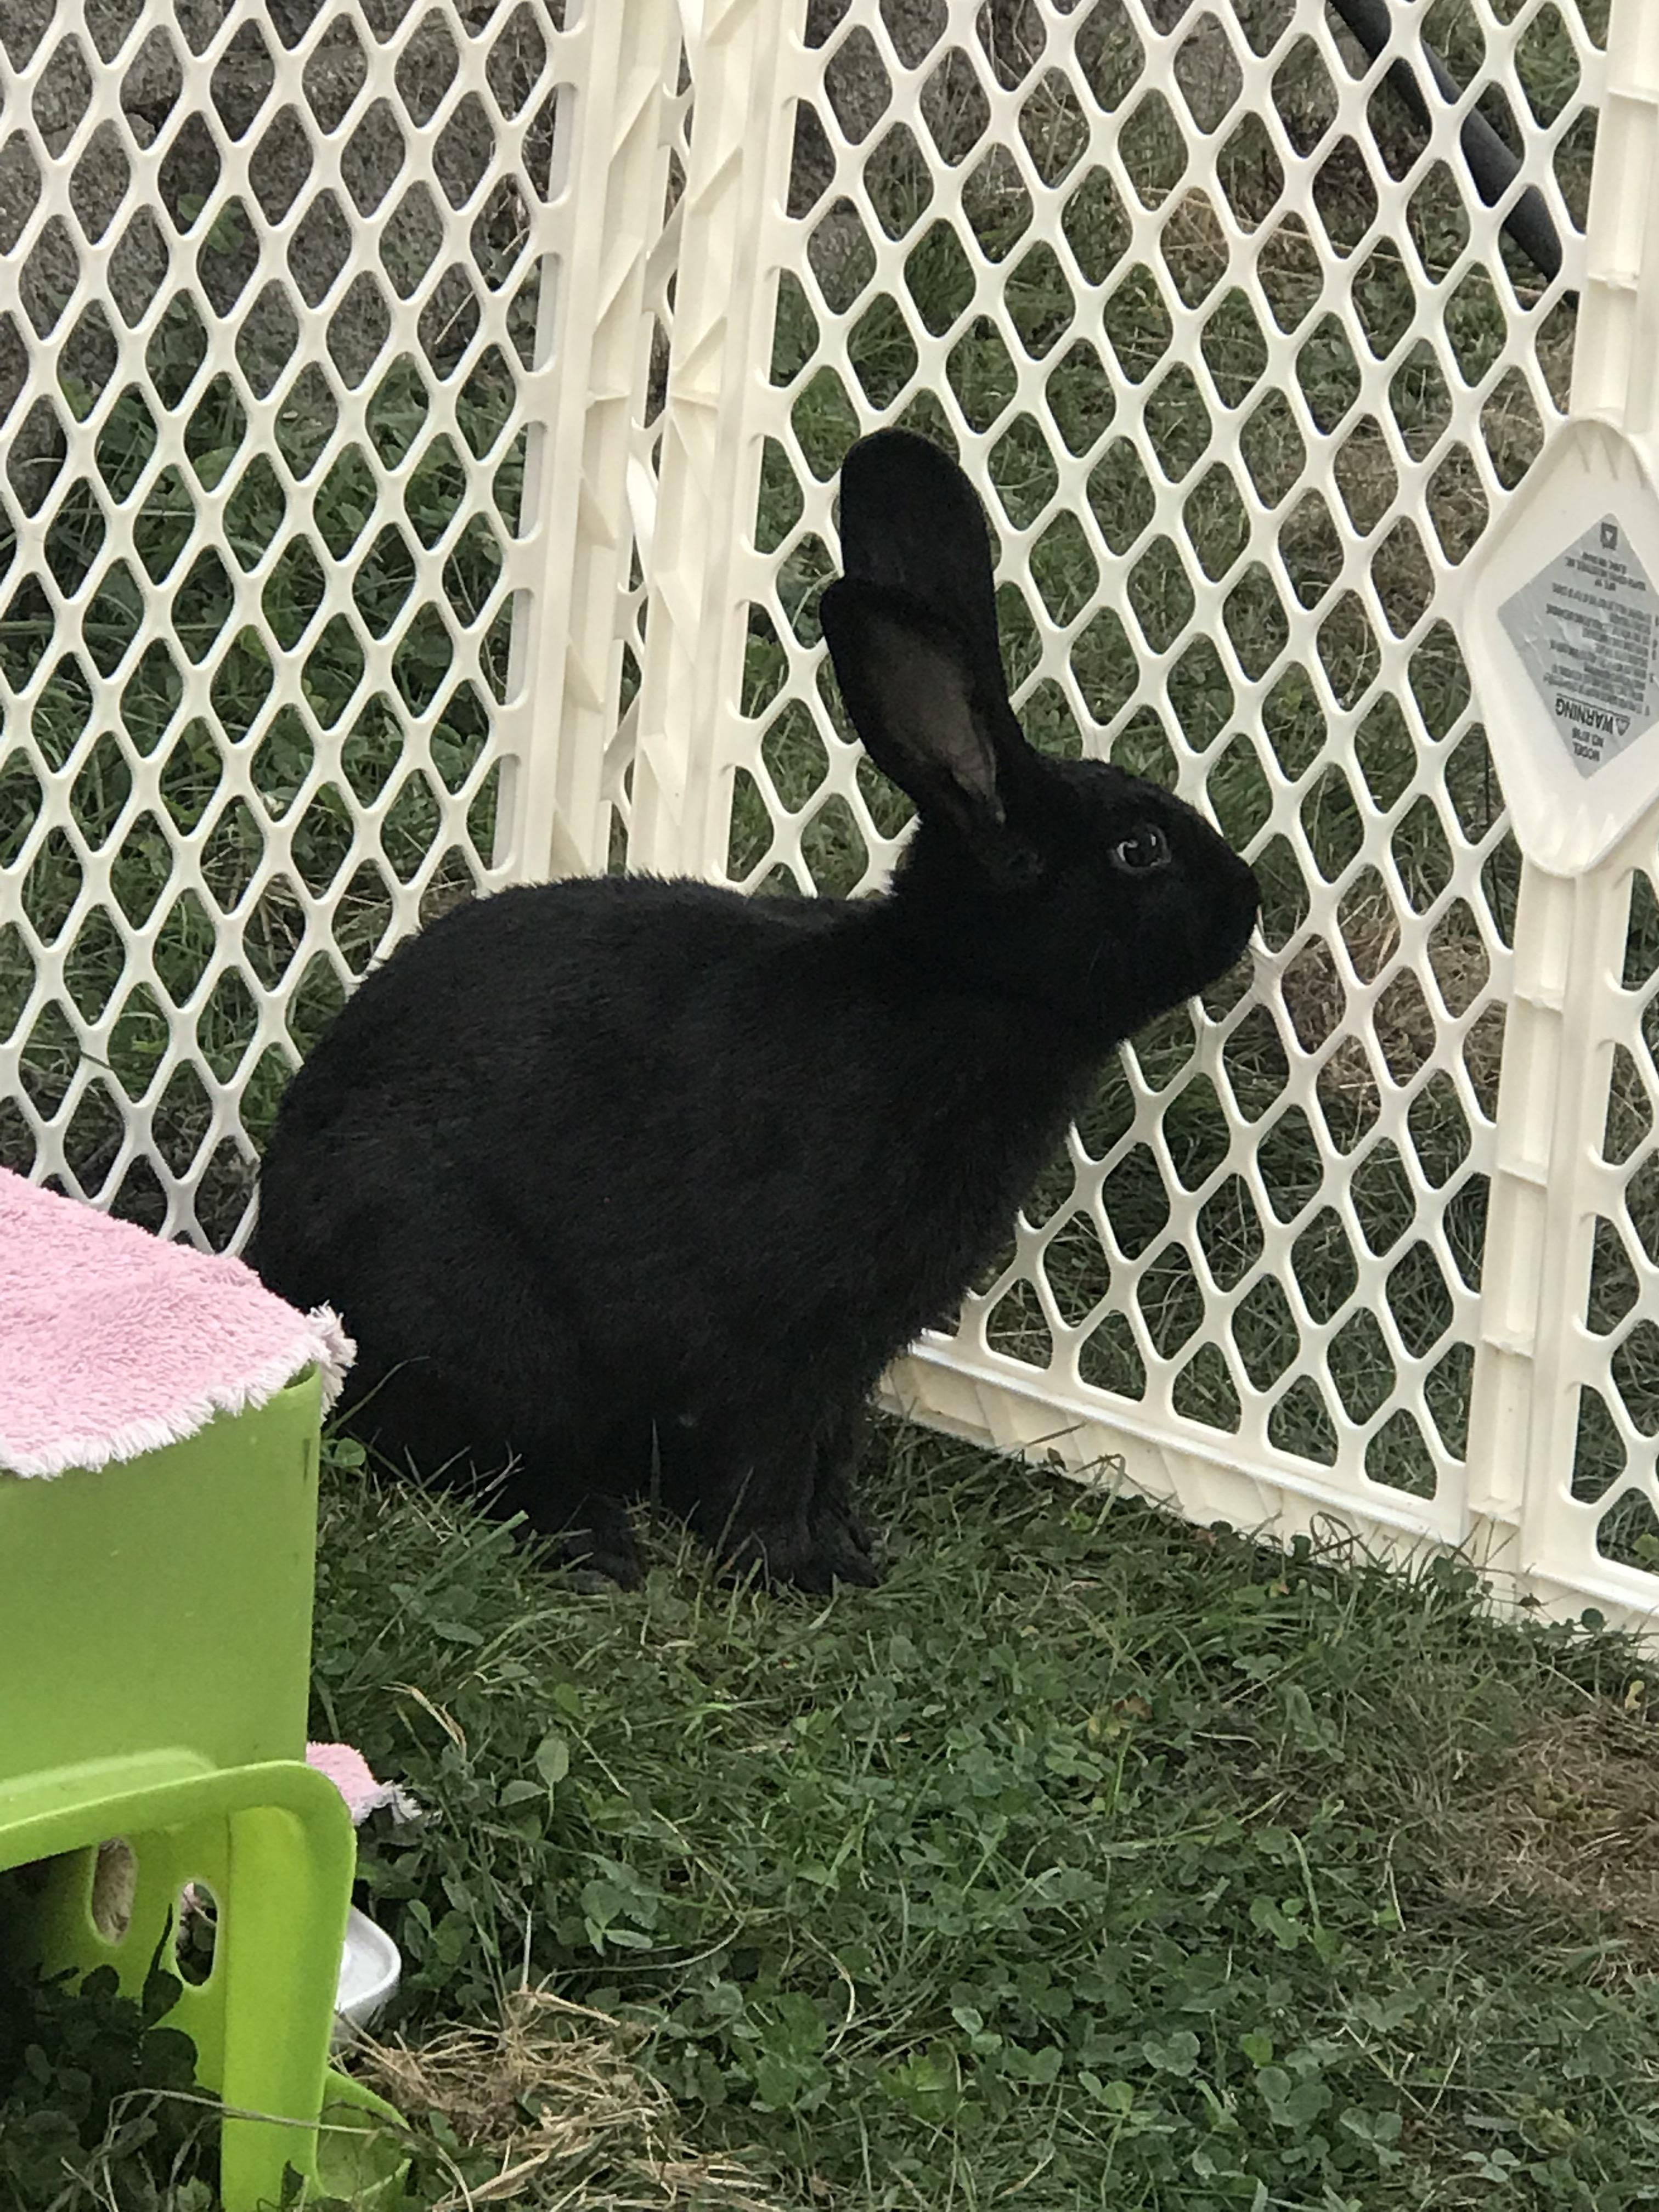bunny: (199, 388, 1328, 1674)
